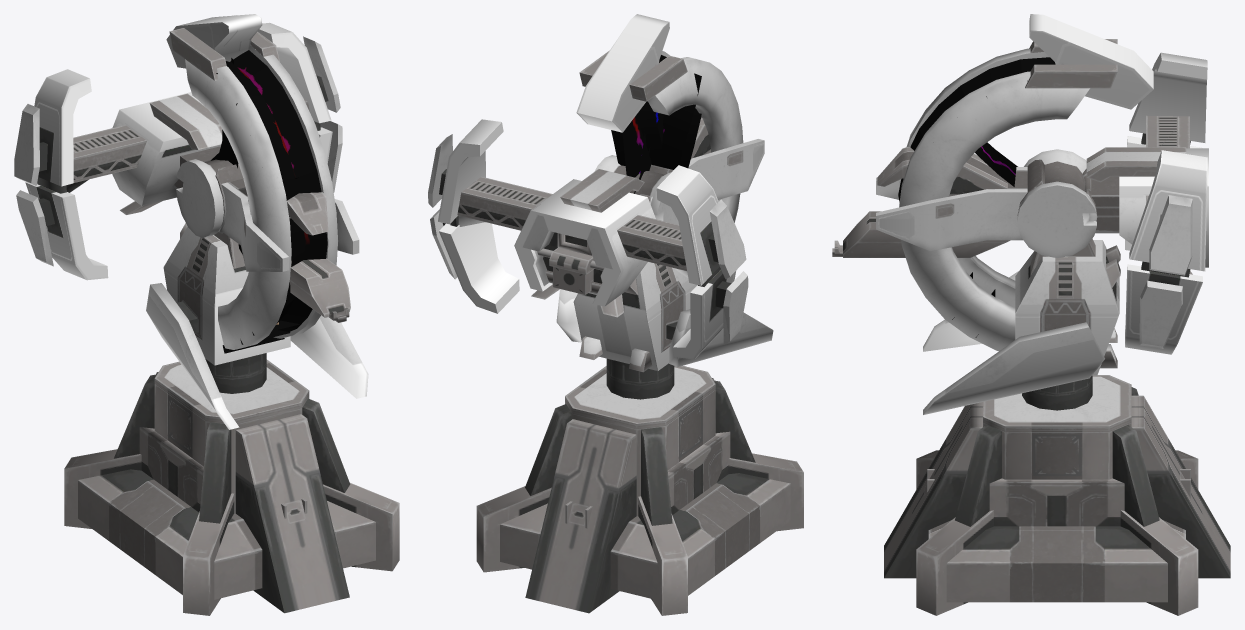
The model's file is turret-laser.glb.
The picture shows the model from 3 angles, left to right: view 1: azimuth 30°, elevation 25°; view 2: azimuth 150°, elevation 25°; view 3: azimuth 270°, elevation 25°; orthographic projection. The views are drawn at different scales.
Visible parts, largest first — view 1: turret-laser-lod0, turret-laser-eff; view 2: turret-laser-lod0, turret-laser-eff; view 3: turret-laser-lod0, turret-laser-eff.
Boxes of the visible parts, <box> form: turret-laser-lod0: <box>14,14,399,615</box>; turret-laser-eff: <box>210,50,327,353</box>; turret-laser-lod0: <box>428,14,803,615</box>; turret-laser-eff: <box>611,55,701,193</box>; turret-laser-lod0: <box>832,14,1230,615</box>; turret-laser-eff: <box>898,57,1055,337</box>.
Bounding box in the file's own units: 4.6 × 7.53 × 5.04.
2 materials, 2 textured.
